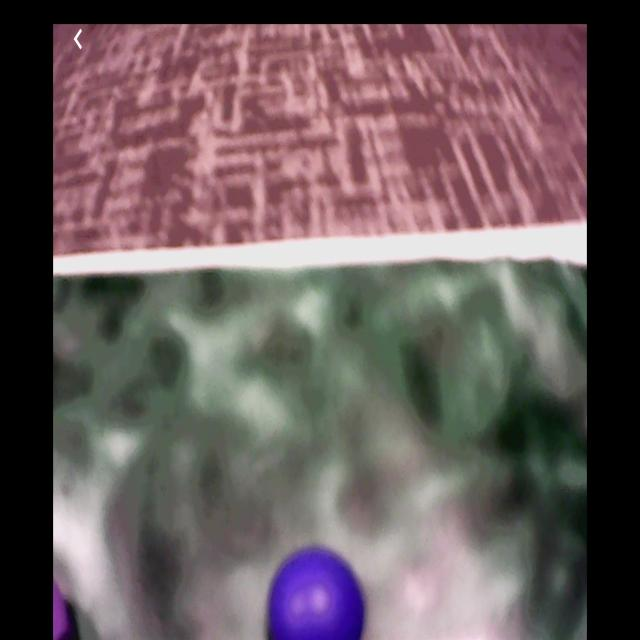ball: (266, 551, 363, 640), (55, 579, 69, 640)
